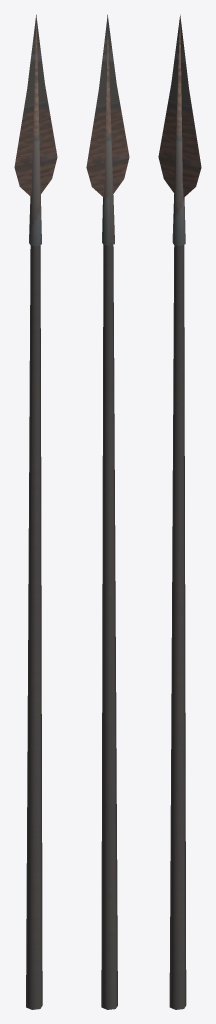
File: Weapon01.fbx
3 renders of one model, left to right at view 1: azimuth 30°, elevation 25°; view 2: azimuth 210°, elevation 25°; view 3: azimuth 330°, elevation 25°, orthographic.
Parts seen in each view (by area): view 1: LV_Common_Object_B_Weapon01_SM_NWCTOY; view 2: LV_Common_Object_B_Weapon01_SM_NWCTOY; view 3: LV_Common_Object_B_Weapon01_SM_NWCTOY.
Part boxes in pixels (bbox=[...]): LV_Common_Object_B_Weapon01_SM_NWCTOY: bbox=[14, 14, 57, 1009]; LV_Common_Object_B_Weapon01_SM_NWCTOY: bbox=[86, 14, 129, 1009]; LV_Common_Object_B_Weapon01_SM_NWCTOY: bbox=[158, 14, 201, 1009].
Bounding box in the file's own units: 2.19 × 48.31 × 0.7334.
